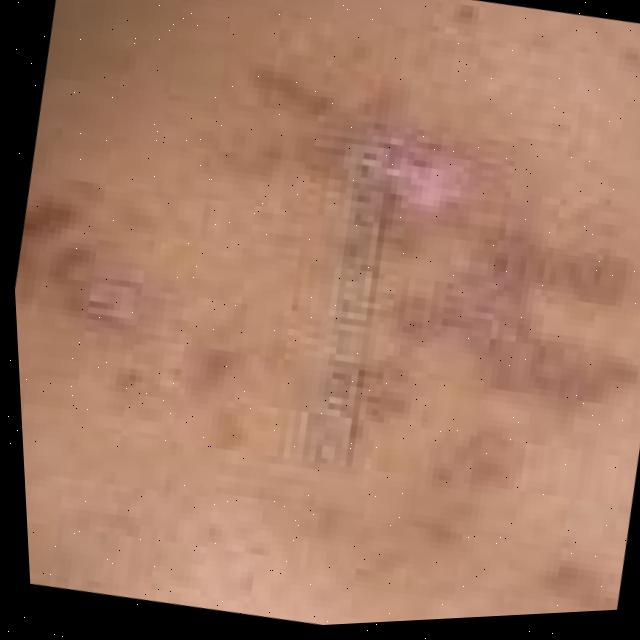Melasma: (5, 59, 632, 527)
